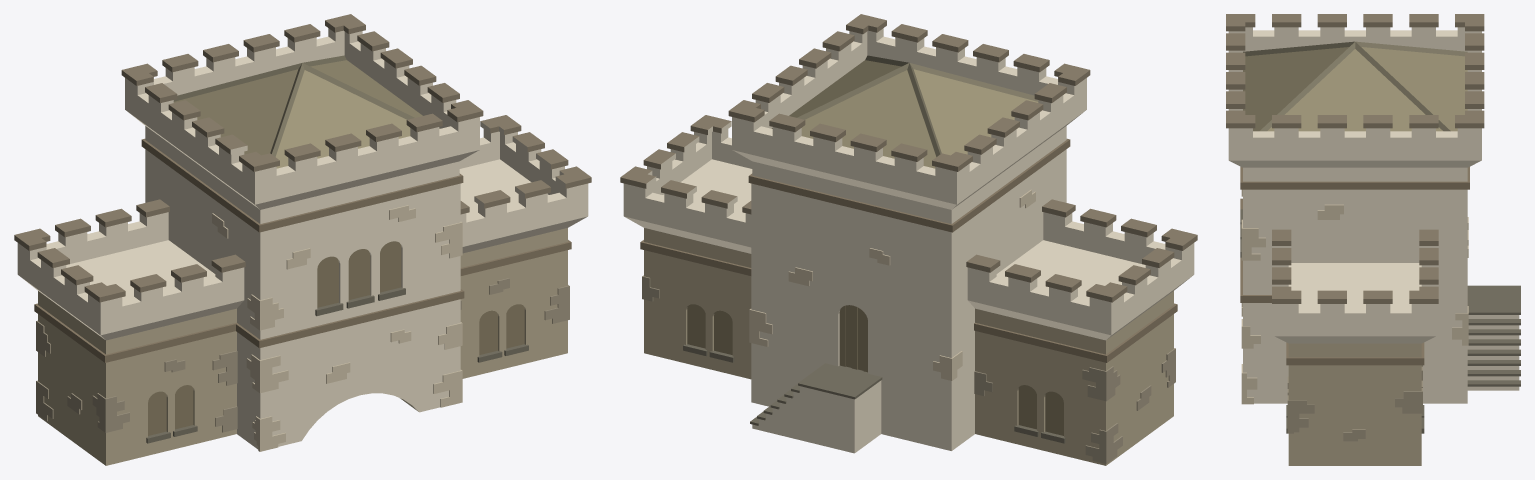
Rendered from Boathouse.dae.
3 views of the same model, side by side, from view 1: azimuth 30°, elevation 25°; view 2: azimuth 150°, elevation 25°; view 3: azimuth 270°, elevation 25° (orthographic). The views are drawn at different scales.
Parts seen in each view (by area): view 1: SketchUp (×26); view 2: SketchUp (×20); view 3: SketchUp (×46).
Part boxes in pixels (left/top/right/bottom): SketchUp (×26): left=17, top=28, right=588, bottom=465; SketchUp (×20): left=623, top=28, right=1194, bottom=465; SketchUp (×46): left=1226, top=14, right=1520, bottom=465.
Size of the model in its own units: 418 by 223 by 262.
